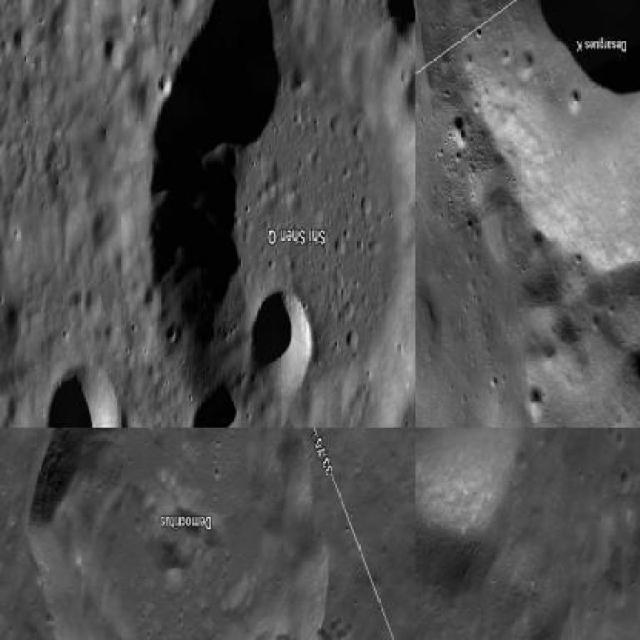crater: (146, 0, 414, 426), (23, 428, 326, 638), (457, 0, 638, 277), (415, 428, 520, 532), (248, 283, 310, 397), (45, 362, 120, 426), (180, 382, 238, 426), (612, 345, 638, 426)
